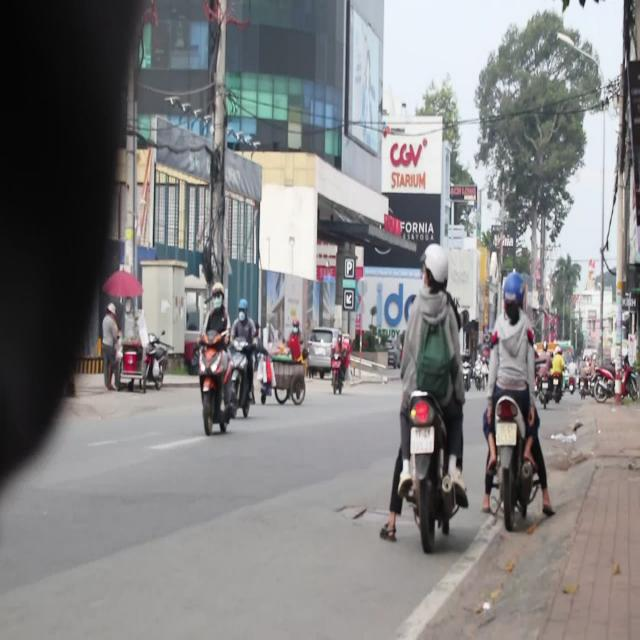car: (304, 326, 342, 374)
motorbike: (403, 374, 462, 564), (485, 385, 542, 546), (198, 340, 238, 436), (221, 332, 256, 424), (142, 338, 172, 392), (590, 366, 614, 402)
